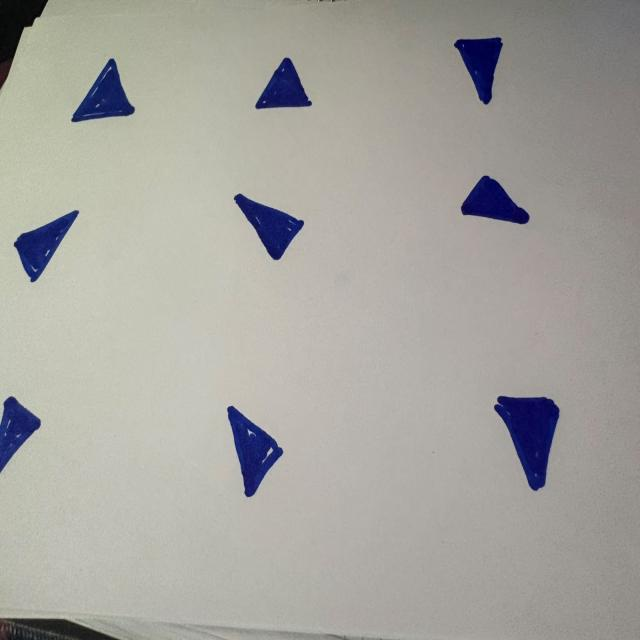Triangle: (494, 396, 559, 490), (228, 406, 282, 497), (461, 175, 529, 224), (454, 38, 502, 104), (255, 57, 312, 109)
